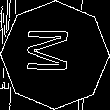M_E: (29, 32, 81, 78)
